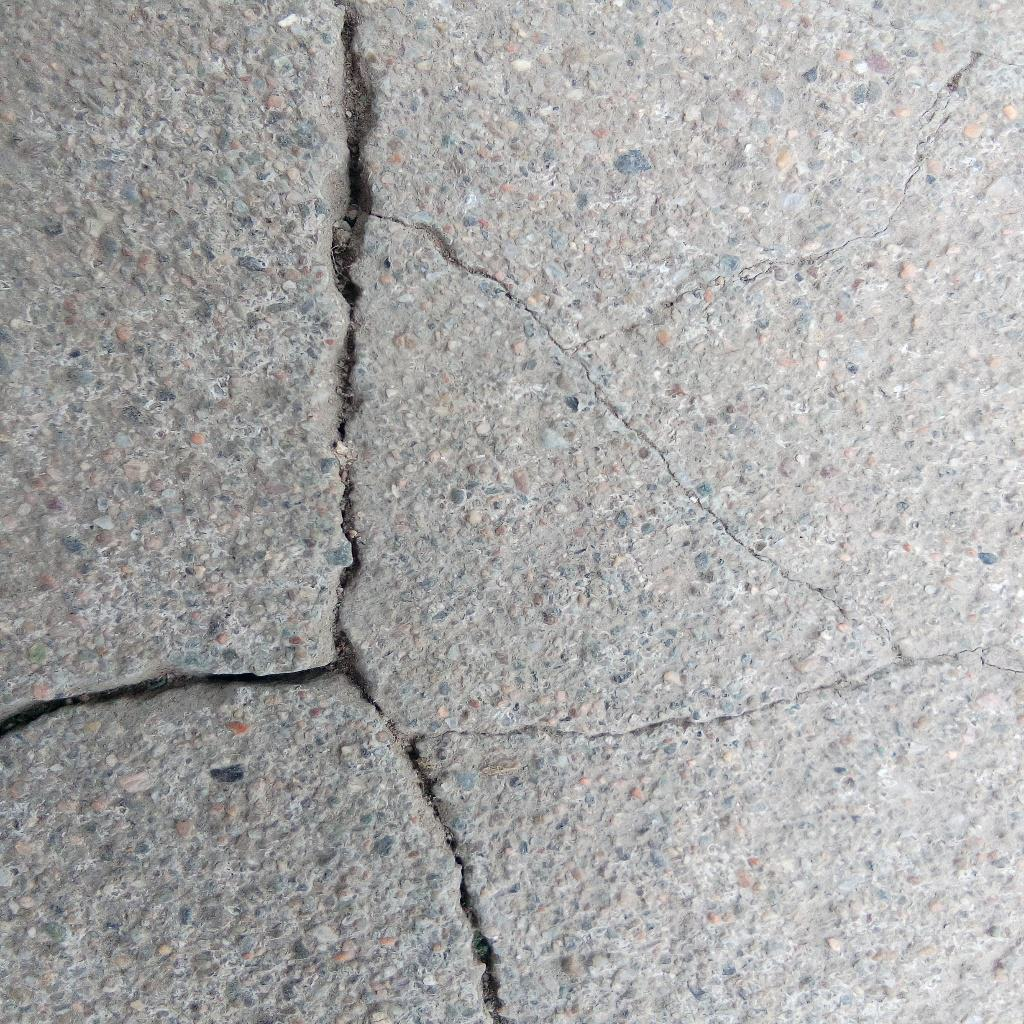Crack: (375, 214, 898, 651), (567, 52, 984, 354), (340, 661, 507, 1024), (412, 650, 1024, 744), (328, 1, 376, 662), (1, 661, 340, 738)
